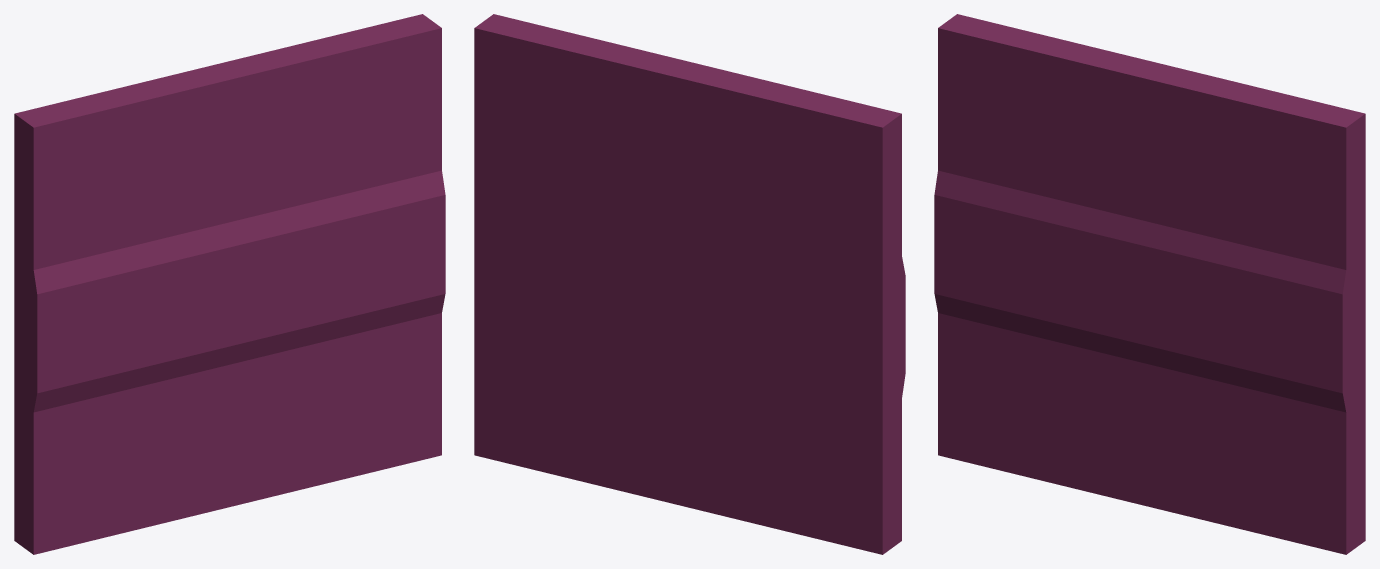
The model's file is SM_BLD_METALWALL_03.fbx.
The picture shows the model from 3 angles, left to right: view 1: azimuth 30°, elevation 25°; view 2: azimuth 150°, elevation 25°; view 3: azimuth 330°, elevation 25°; orthographic projection.
Parts seen in each view (by area): view 1: SM_BLD_METALWALL_03; view 2: SM_BLD_METALWALL_03; view 3: SM_BLD_METALWALL_03.
Boxes of the visible parts, box(x1,y1,x2,y2) form: SM_BLD_METALWALL_03: box(14, 14, 445, 554); SM_BLD_METALWALL_03: box(474, 14, 905, 554); SM_BLD_METALWALL_03: box(934, 14, 1365, 554).
Size of the model in its own units: 3.5 by 3.5 by 0.338.
